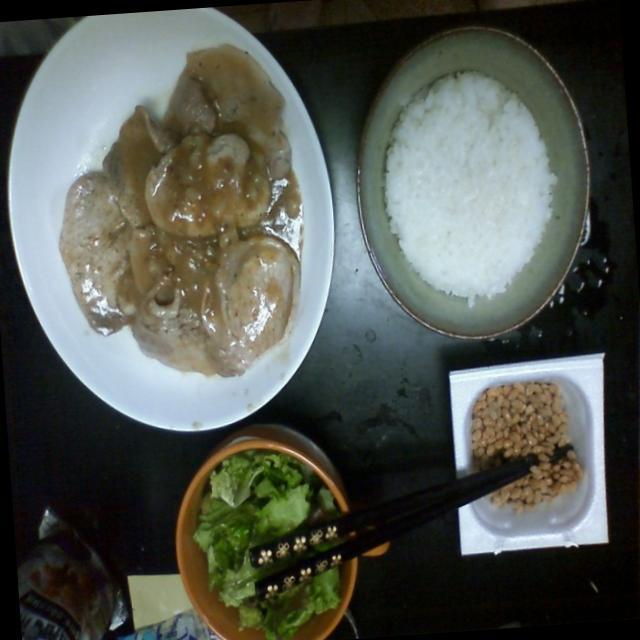Rice: (362, 49, 574, 321)
